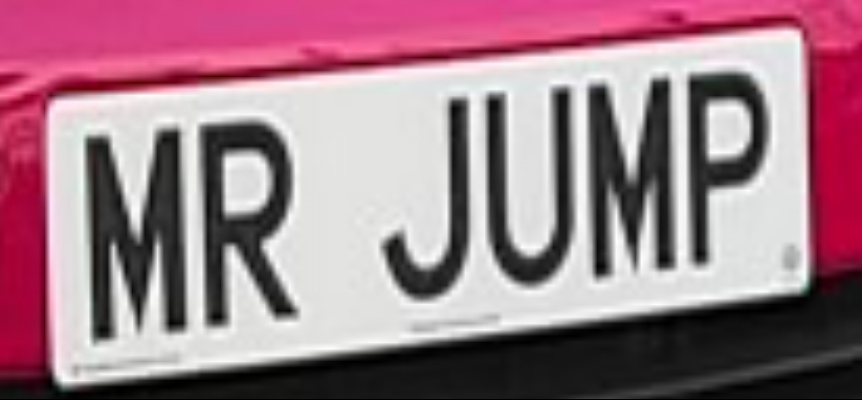J: (361, 84, 482, 307)
M: (75, 107, 198, 357), (581, 56, 684, 291)
P: (674, 56, 775, 281)
R: (185, 95, 304, 339)
U: (479, 75, 585, 300)
